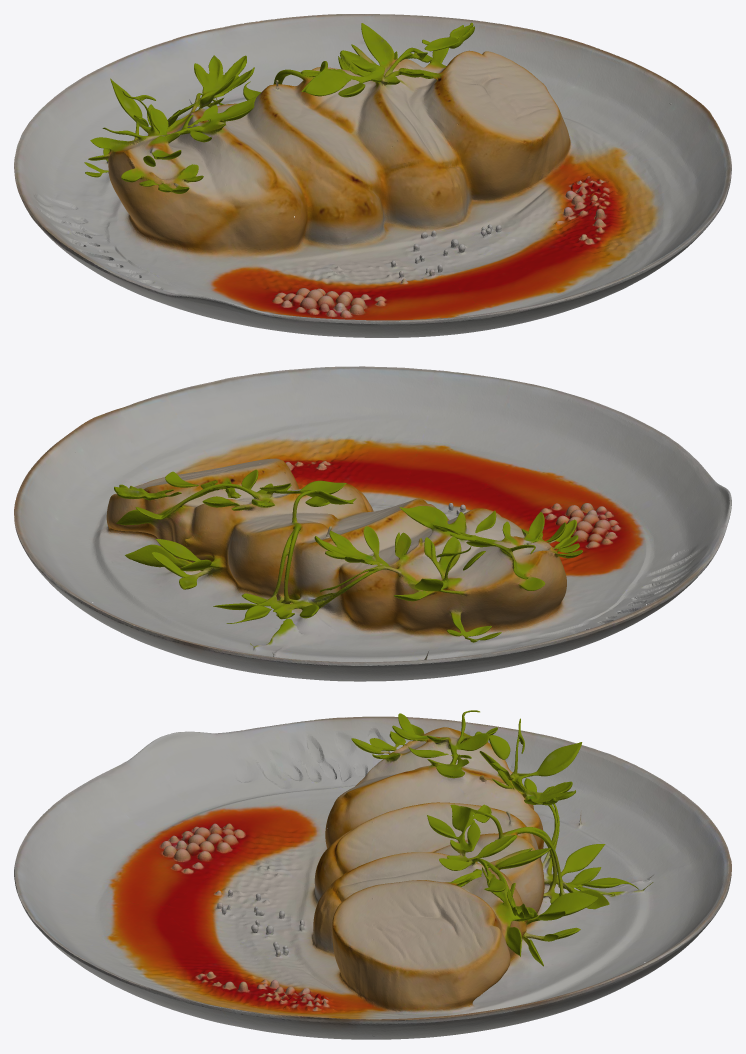
Rendered from plat1-v1.glb.
The picture shows the model from 3 angles, top to bottom: view 1: azimuth 30°, elevation 25°; view 2: azimuth 150°, elevation 25°; view 3: azimuth 270°, elevation 25°; orthographic projection.
Visible parts, largest first — view 1: tripo_node_1e6f923f-830e-4c79-a515-97d6c2d3e2cb; view 2: tripo_node_1e6f923f-830e-4c79-a515-97d6c2d3e2cb; view 3: tripo_node_1e6f923f-830e-4c79-a515-97d6c2d3e2cb.
Boxes of the visible parts, left/top/right/bottom form: tripo_node_1e6f923f-830e-4c79-a515-97d6c2d3e2cb: left=14, top=14, right=731, bottom=337; tripo_node_1e6f923f-830e-4c79-a515-97d6c2d3e2cb: left=14, top=366, right=731, bottom=681; tripo_node_1e6f923f-830e-4c79-a515-97d6c2d3e2cb: left=14, top=710, right=731, bottom=1039.
Size of the model in its own units: 0.9984 by 0.2019 by 0.9991.
Materials: 1 (1 with a texture image).
